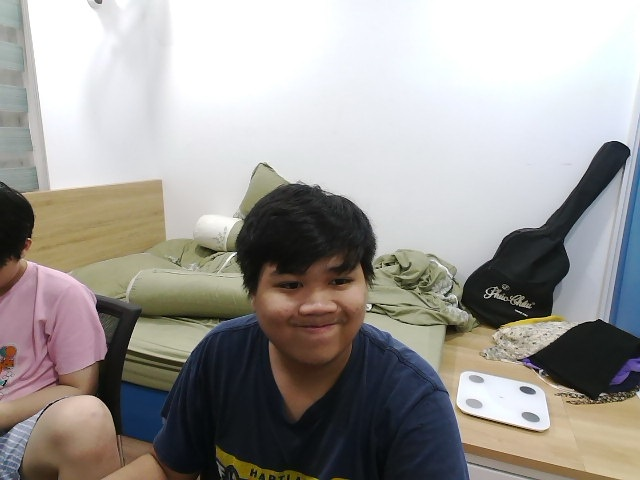face: (233, 184, 378, 364)
